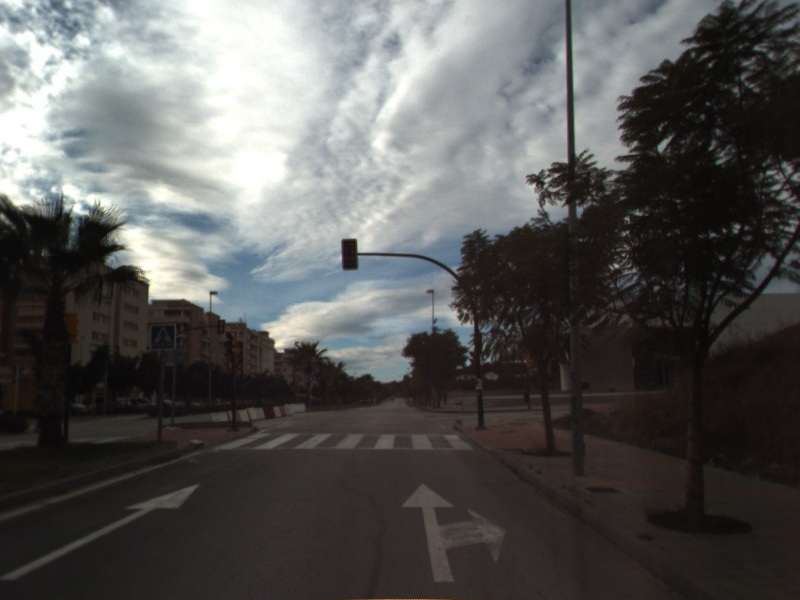STRAIGHT: (1, 481, 201, 582)
STRAIGHT_RIGHT: (399, 481, 508, 584)
